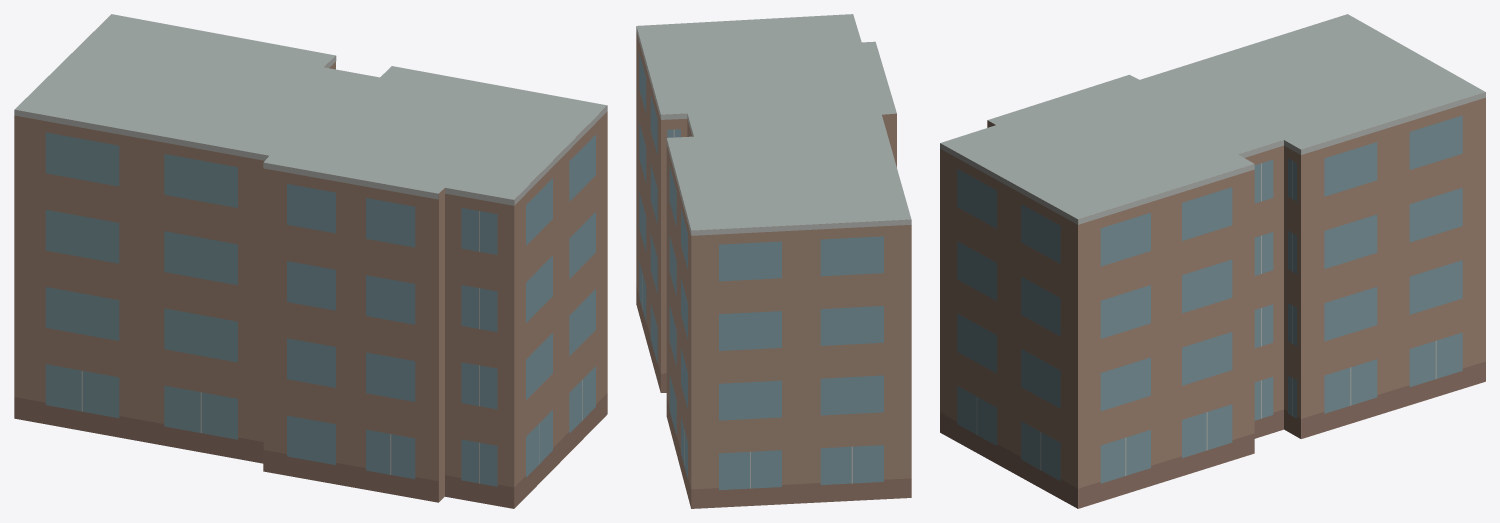
The model's file is survey-upis-32663522.glb.
3 renders of one model, left to right at view 1: azimuth 30°, elevation 25°; view 2: azimuth 150°, elevation 25°; view 3: azimuth 270°, elevation 25°, orthographic. The views are drawn at different scales.
Visible parts, largest first — view 1: survey-upis-32663522.tmp; view 2: survey-upis-32663522.tmp; view 3: survey-upis-32663522.tmp.
Boxes of the visible parts, x1,y1,x2,y2 form: survey-upis-32663522.tmp: (14,14,607,508); survey-upis-32663522.tmp: (636,14,911,508); survey-upis-32663522.tmp: (940,14,1485,508).
Size of the model in its own units: 19.56 by 12.85 by 21.96.
